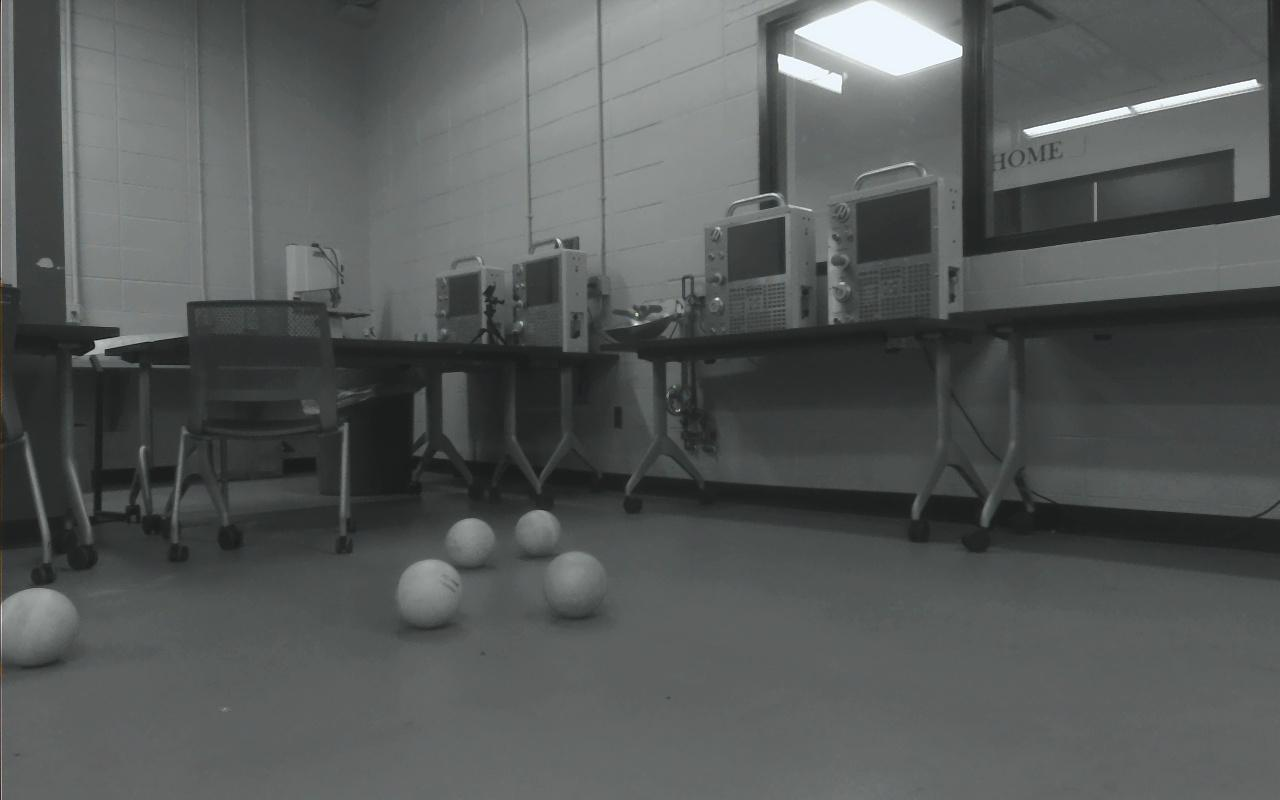Fuel: (1, 588, 79, 667), (396, 559, 463, 629), (544, 552, 608, 618), (445, 518, 495, 567), (515, 510, 562, 557)
